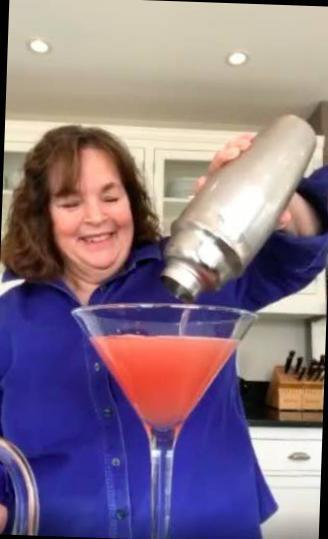Drunk: (55, 158, 133, 266)
